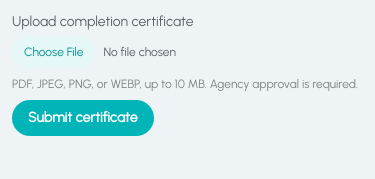
private training certificate › shows the server reason when a certificate is rejected
Earlier steps of the test are not shown.
Click the button "Submit certificate".
click(83, 118)  # box left=12, top=100, right=154, bottom=136
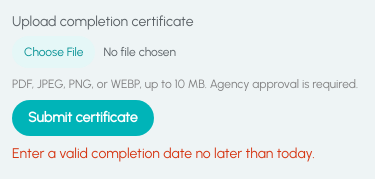
Check: the message reads "Enter a valid completion date no later than today.", box left=12, top=145, right=315, bottom=162
